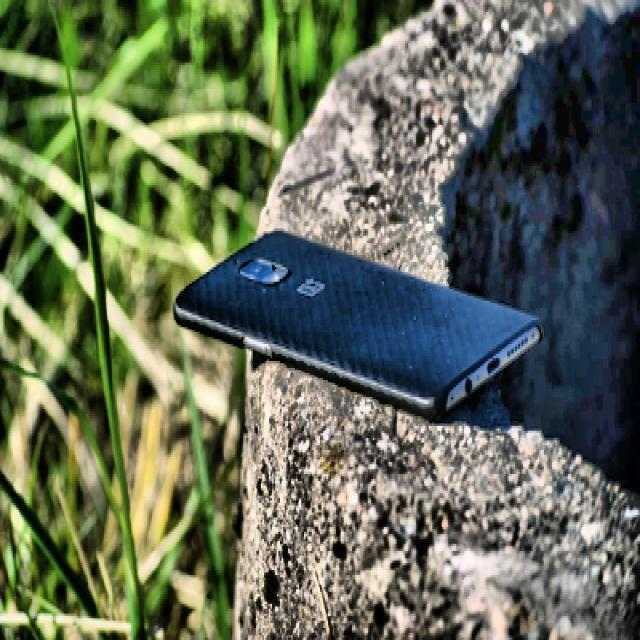Phone: (171, 228, 541, 424)
